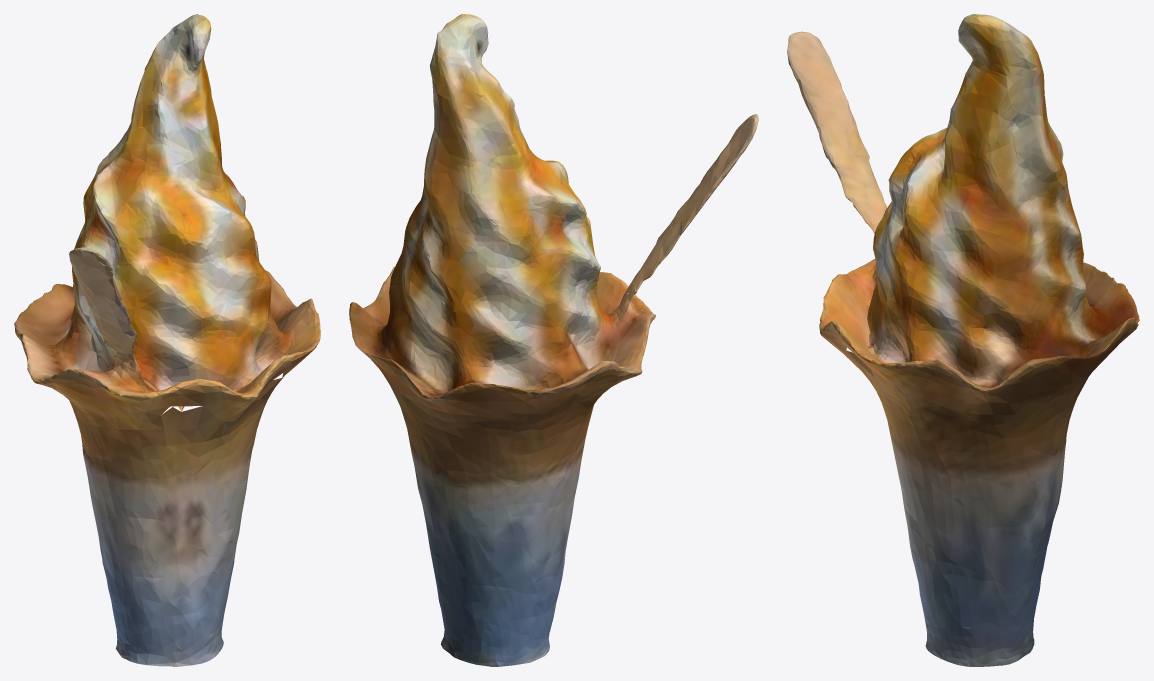
Rendered from dessert_bowl.glb.
3 renders of one model, left to right at view 1: azimuth 30°, elevation 25°; view 2: azimuth 150°, elevation 25°; view 3: azimuth 270°, elevation 25°, orthographic. The views are drawn at different scales.
Visible parts, largest first — view 1: mesh; view 2: mesh; view 3: mesh.
Part boxes in pixels (x1,y1,x2,y2): mesh: (14,14,320,666); mesh: (349,14,758,666); mesh: (787,14,1139,666).
Size of the model in its own units: 0.16 by 0.3077 by 0.1527.
Materials: 1 (1 with a texture image).
